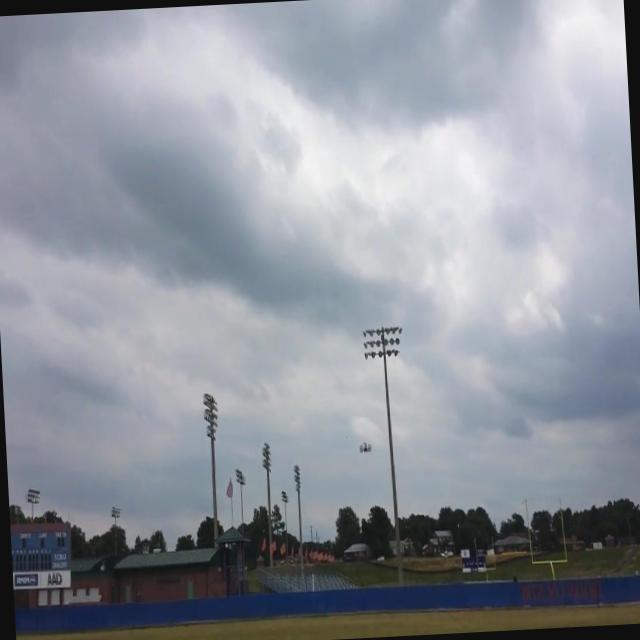drone: (356, 436, 376, 460)
